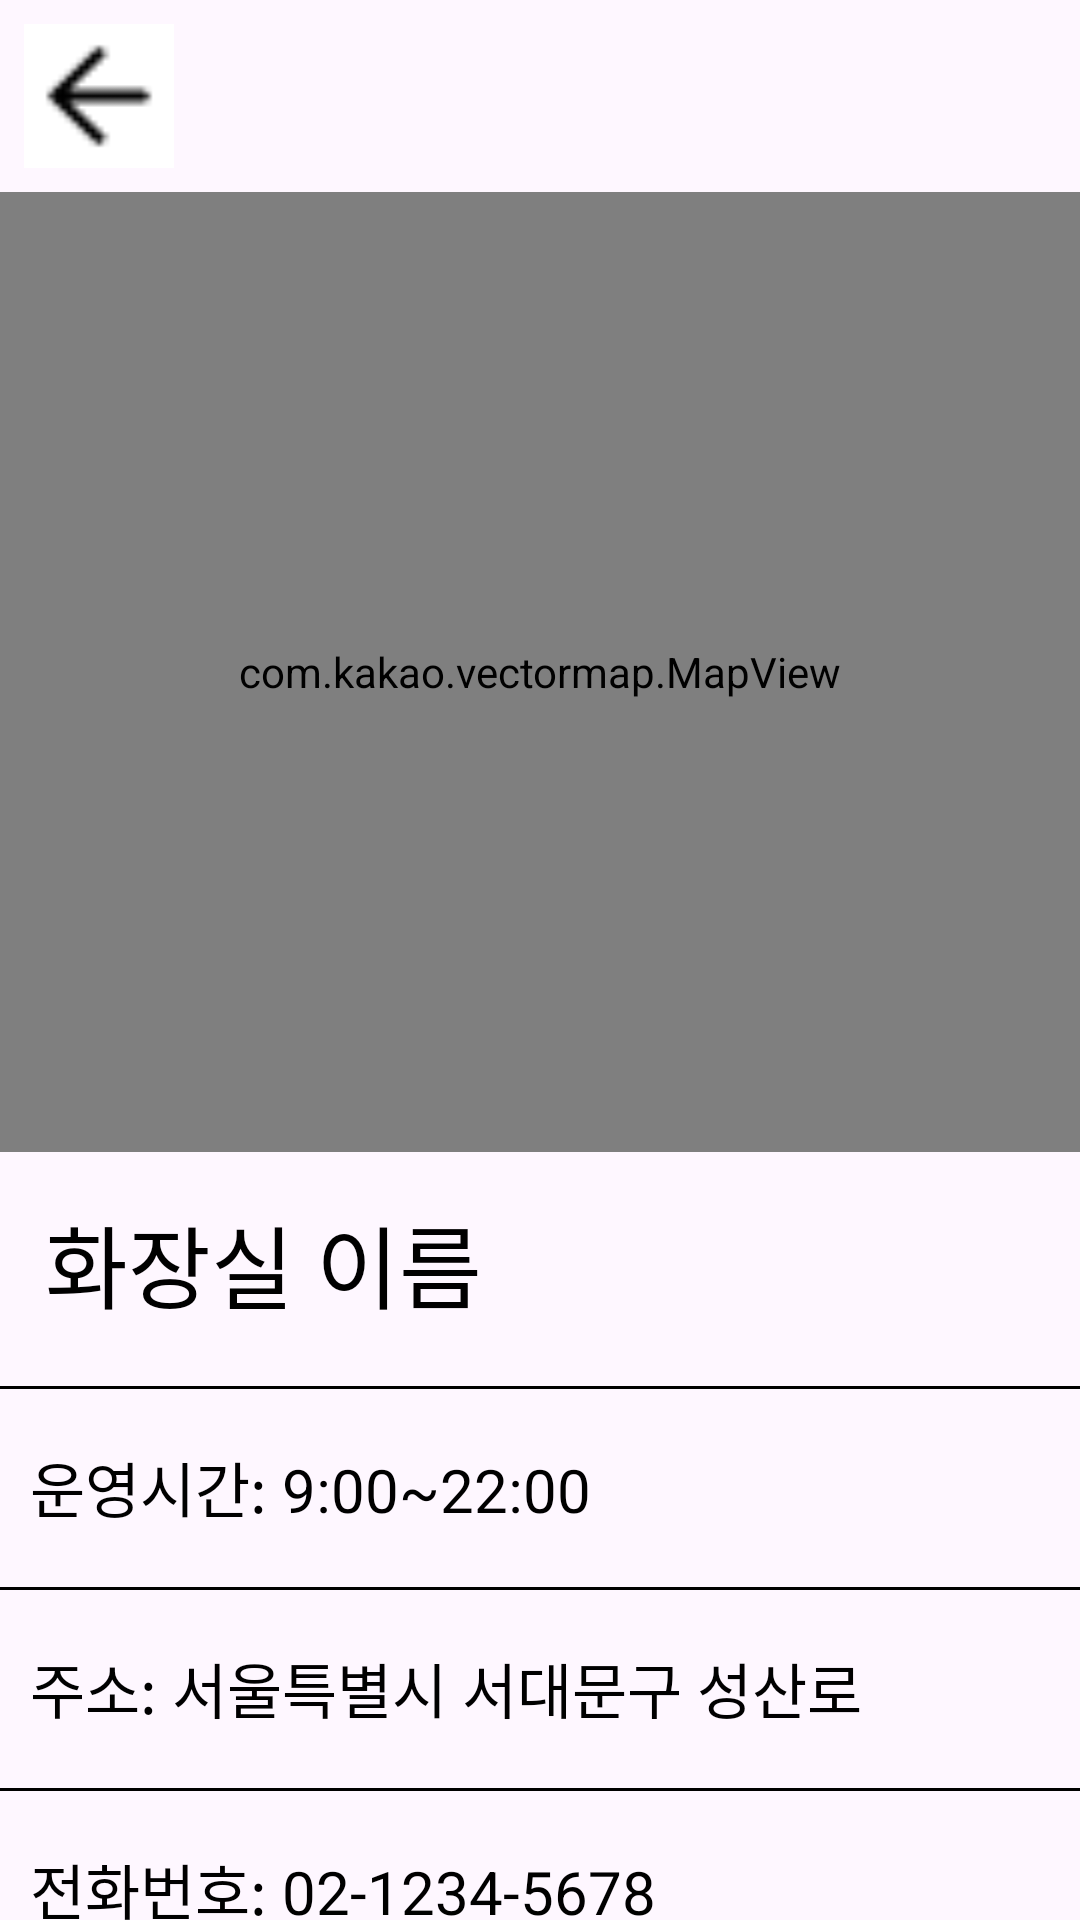

Icons on this 1080px x 1920px Android screen, each with the point to tap as point (x, y):
뒤로가기 버튼: point (99, 96)
